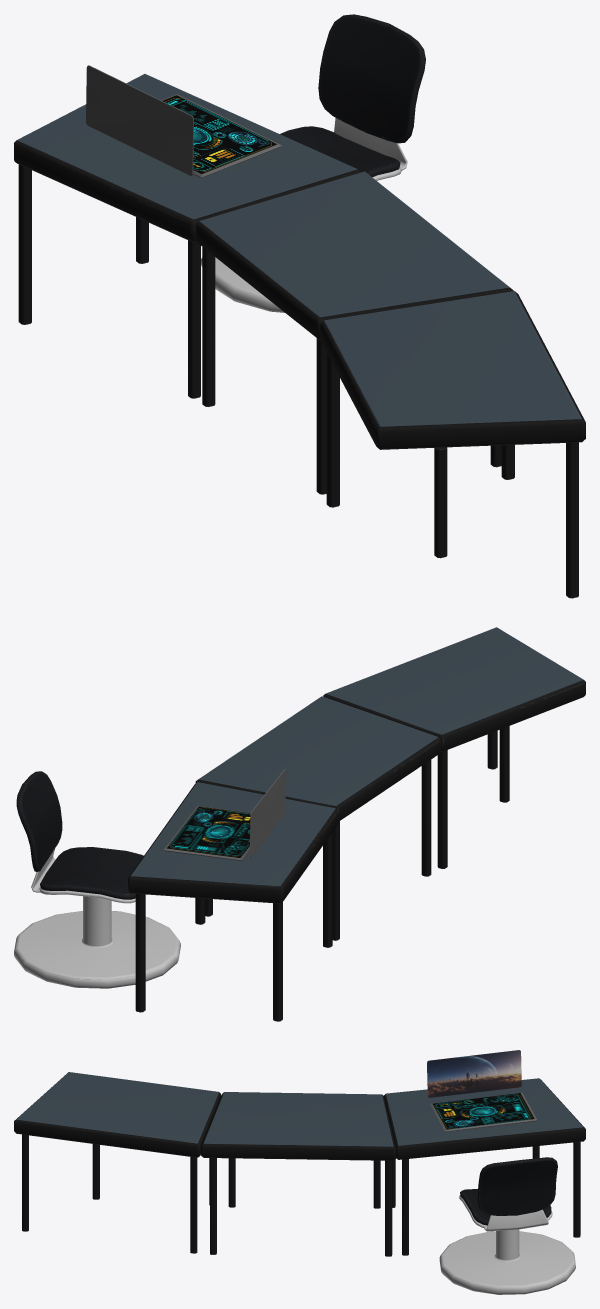
File: Space Env Resized 1.fbx
3 views of the same model, one above another, from view 1: azimuth 30°, elevation 25°; view 2: azimuth 150°, elevation 25°; view 3: azimuth 270°, elevation 25° (orthographic). The views are drawn at different scales.
Visible parts, largest first — view 1: pPlane16.001, pPlane17.001, pPlane18.001, Chair3, pPlane20, pPlane21, pCylinder58, pCylinder50, pCylinder51, pCylinder39, pCylinder44, pCylinder45 (+1 smaller); view 2: Chair3, pPlane16.001, pPlane17.001, pPlane18.001, pPlane21, pPlane20, pCylinder52, pCylinder44, pCylinder45, pCylinder58, pCylinder51, pCylinder50 (+1 smaller); view 3: Chair3, pPlane17.001, pPlane16.001, pPlane18.001, pPlane20, pPlane21, pCylinder43, pCylinder49, pCylinder52, pCylinder39, pCylinder41, pCylinder54 (+3 smaller).
Boxes of the visible parts, x1,y1,x2,y2 form: pPlane16.001: (320, 291, 585, 449); pPlane17.001: (196, 171, 513, 340); pPlane18.001: (14, 74, 360, 242); Chair3: (201, 14, 425, 312); pPlane20: (86, 65, 193, 175); pPlane21: (161, 94, 281, 177); pCylinder58: (18, 164, 31, 324); pCylinder50: (202, 247, 215, 406); pCylinder51: (188, 240, 200, 398); pCylinder39: (566, 442, 578, 598); pCylinder44: (326, 353, 339, 507); pCylinder45: (316, 338, 326, 494); Chair3: (14, 771, 180, 988); pPlane16.001: (323, 627, 585, 751); pPlane17.001: (195, 696, 440, 821); pPlane18.001: (128, 782, 338, 903); pPlane21: (163, 806, 250, 860); pPlane20: (250, 769, 285, 858); pCylinder52: (135, 894, 145, 1012); pCylinder44: (437, 750, 447, 868); pCylinder45: (421, 760, 431, 876); pCylinder58: (273, 902, 282, 1021); pCylinder51: (323, 832, 332, 947); pCylinder50: (332, 821, 339, 940); Chair3: (439, 1157, 575, 1294); pPlane17.001: (201, 1092, 396, 1160); pPlane16.001: (14, 1072, 221, 1157); pPlane18.001: (384, 1078, 585, 1159); pPlane20: (427, 1050, 521, 1097); pPlane21: (430, 1092, 536, 1131); pCylinder43: (190, 1157, 197, 1253); pCylinder49: (385, 1160, 392, 1256); pCylinder52: (573, 1142, 580, 1237); pCylinder39: (22, 1134, 28, 1231); pCylinder41: (210, 1158, 216, 1254); pCylinder54: (402, 1159, 408, 1255).
Size of the model in its own units: 179 by 112 by 371.
